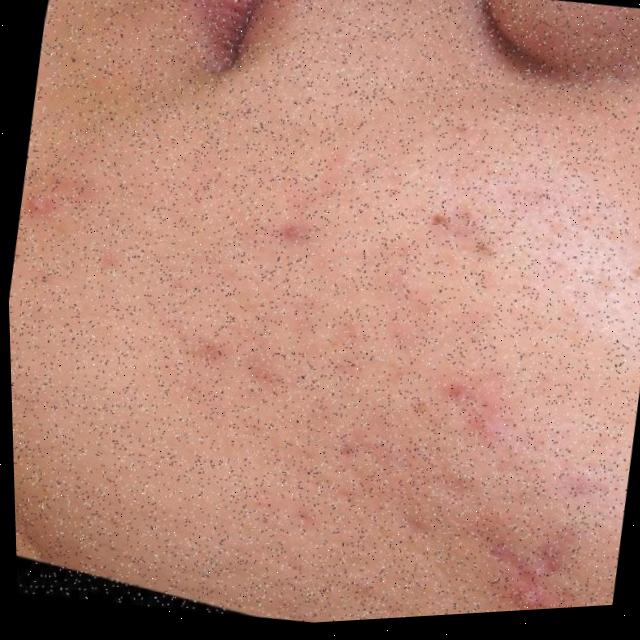Acne: (102, 145, 640, 634)
